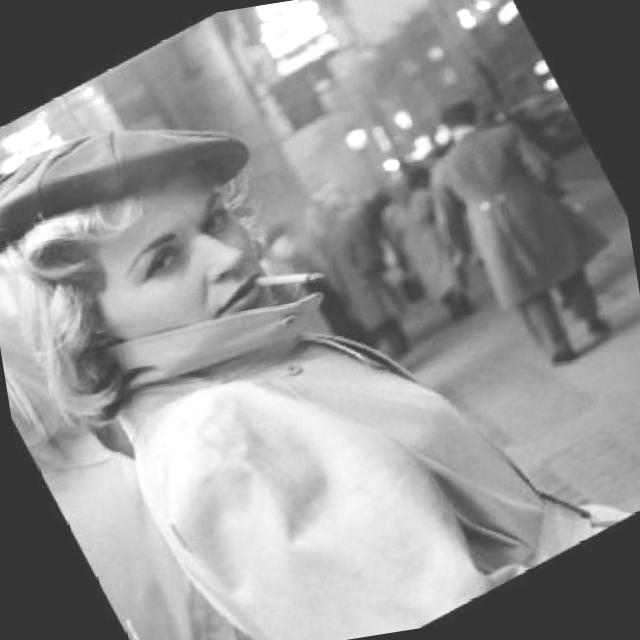smoke: (243, 244, 335, 318)
